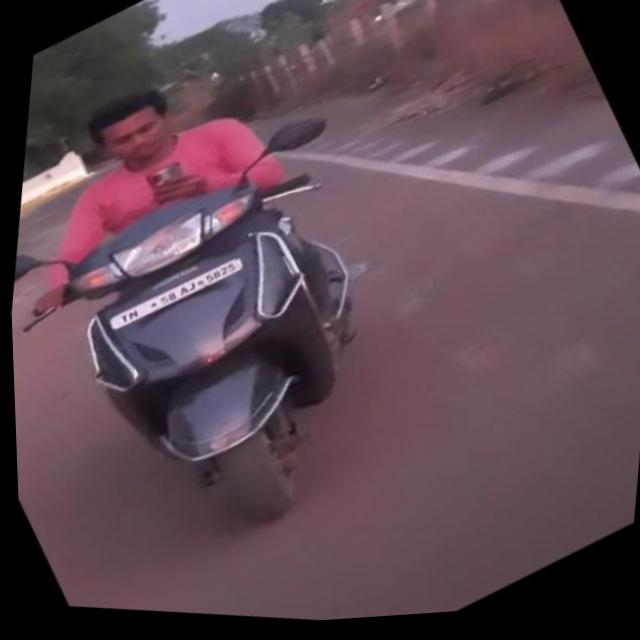USING_MOBILE: (62, 43, 259, 240)
